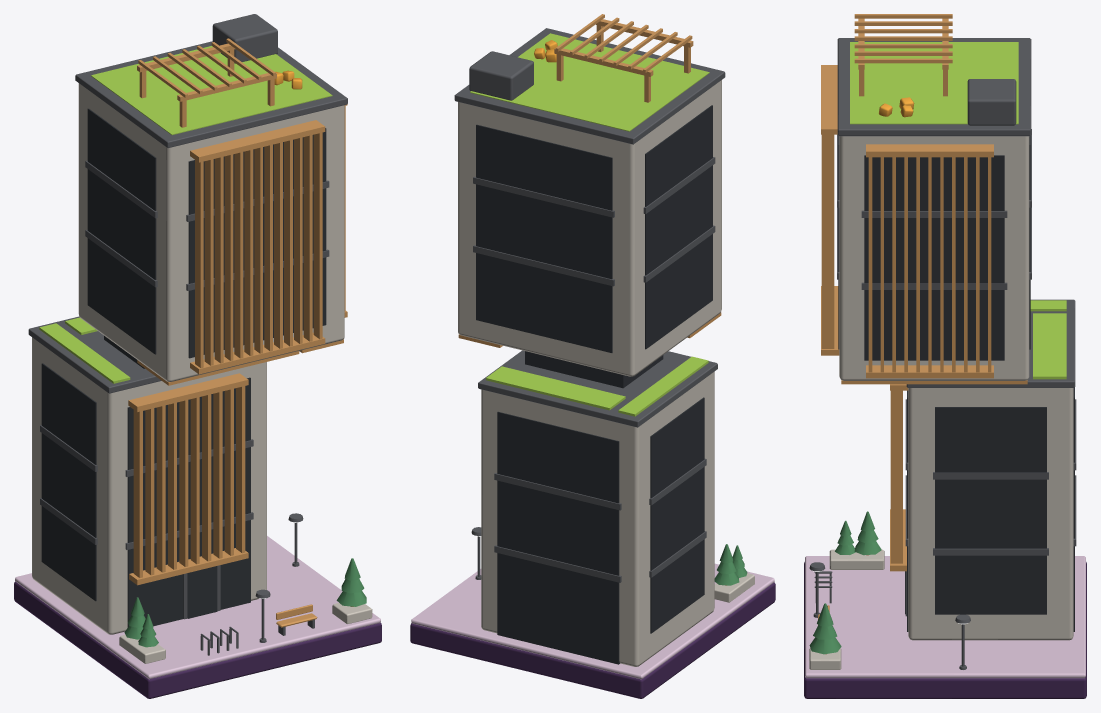
Rendered from modern_building_4_2Level_Demo.glb.
The picture shows the model from 3 angles, left to right: view 1: azimuth 30°, elevation 25°; view 2: azimuth 150°, elevation 25°; view 3: azimuth 270°, elevation 25°; orthographic projection. The views are drawn at different scales.
Visible parts, largest first — view 1: MB4_2_Larch2, MB4_2_Glass2, MB4_2_Conc2, MB4_2_Trim2, MB4_2_Paving, MB4_2_Grass, MB4_2_Base, MB4_2_Pine; view 2: MB4_2_Glass2, MB4_2_Conc2, MB4_2_Trim2, MB4_2_Grass, MB4_2_Base, MB4_2_Paving, MB4_2_Larch2, MB4_2_Pine; view 3: MB4_2_Glass2, MB4_2_Conc2, MB4_2_Larch2, MB4_2_Paving, MB4_2_Trim2, MB4_2_Grass, MB4_2_Base, MB4_2_Pine.
Boxes of the visible parts, x1=… form: MB4_2_Larch2: x1=128, y1=38, x2=347, y2=627; MB4_2_Glass2: x1=41, y1=108, x2=326, y2=627; MB4_2_Conc2: x1=32, y1=83, x2=372, y2=663; MB4_2_Trim2: x1=28, y1=14, x2=347, y2=655; MB4_2_Paving: x1=15, y1=536, x2=380, y2=679; MB4_2_Grass: x1=39, y1=46, x2=332, y2=383; MB4_2_Base: x1=14, y1=581, x2=381, y2=698; MB4_2_Pine: x1=124, y1=558, x2=366, y2=647; MB4_2_Glass2: x1=476, y1=105, x2=712, y2=664; MB4_2_Conc2: x1=458, y1=80, x2=754, y2=666; MB4_2_Trim2: x1=454, y1=28, x2=725, y2=582; MB4_2_Grass: x1=470, y1=33, x2=709, y2=416; MB4_2_Base: x1=410, y1=582, x2=775, y2=698; MB4_2_Paving: x1=411, y1=563, x2=774, y2=679; MB4_2_Larch2: x1=458, y1=14, x2=721, y2=347; MB4_2_Pine: x1=714, y1=544, x2=747, y2=585; MB4_2_Glass2: x1=838, y1=136, x2=1074, y2=631; MB4_2_Conc2: x1=809, y1=136, x2=1073, y2=669; MB4_2_Larch2: x1=818, y1=14, x2=1027, y2=619; MB4_2_Paving: x1=805, y1=556, x2=1085, y2=678; MB4_2_Trim2: x1=809, y1=38, x2=1076, y2=669; MB4_2_Grass: x1=850, y1=42, x2=1066, y2=379; MB4_2_Base: x1=804, y1=562, x2=1086, y2=698; MB4_2_Pine: x1=809, y1=511, x2=881, y2=654.
Size of the model in its own units: 3.2 by 7.47 by 3.2.
